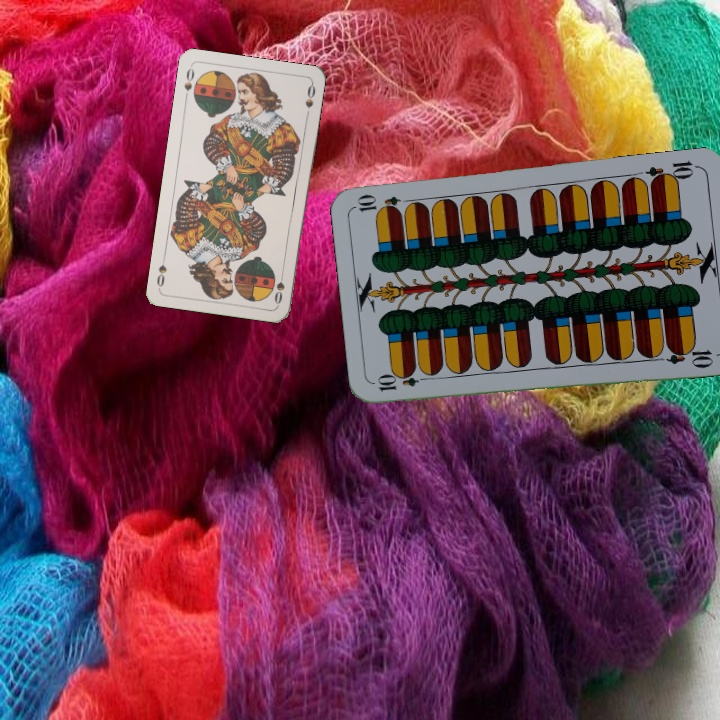E10: (643, 157, 702, 187), (373, 371, 433, 394)
SO: (270, 266, 287, 307), (180, 64, 197, 103)
